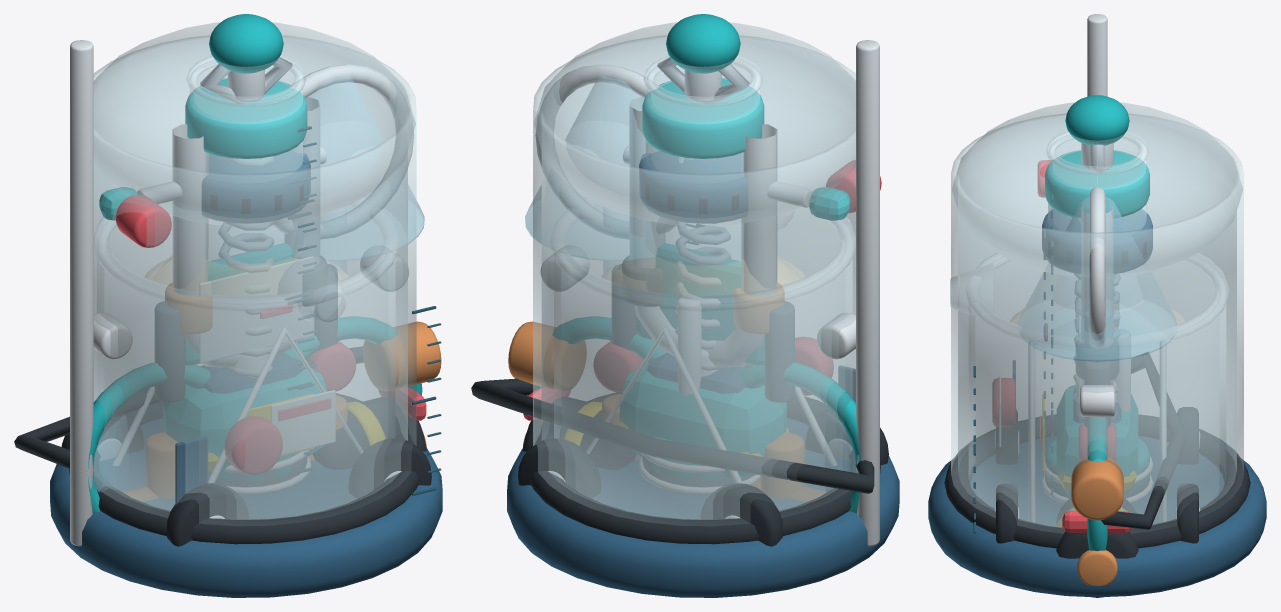
The model's file is science-lab-kit-audit.glb.
The picture shows the model from 3 angles, left to right: view 1: azimuth 30°, elevation 25°; view 2: azimuth 150°, elevation 25°; view 3: azimuth 270°, elevation 25°; orthographic projection. The views are drawn at different scales.
Parts seen in each view (by area): view 1: BELL_JAR_GLASS_WALL, BEAKER_GLASS_WALL, BELL_JAR_DOME, BELL_JAR_BASE, STAND_ROD, FUNNEL_BOWL, BELL_JAR_GASKET, FORK_U_PROFILE, SCALE_TOP_CAP, MIRROR_SURFACE, BOTTLE_CAP, CLAMP_RING (+43 smaller); view 2: BELL_JAR_GLASS_WALL, BEAKER_GLASS_WALL, BELL_JAR_DOME, BELL_JAR_BASE, FUNNEL_BOWL, STAND_ROD, FORK_U_PROFILE, BELL_JAR_GASKET, PUMP_BODY, GOGGLE_STRAP, SCALE_TOP_CAP, BOTTLE_CAP (+37 smaller); view 3: BELL_JAR_GLASS_WALL, BEAKER_GLASS_WALL, BELL_JAR_DOME, BELL_JAR_BASE, FUNNEL_BOWL, BELL_JAR_GASKET, SCALE_TOP_CAP, BOTTLE_CAP, CYLINDER_GLASS_WALL, PUMP_BODY, GOGGLE_STRAP, PUMP_HOSE_PORT (+27 smaller).
Part boxes in pixels (x1,y1,x2,y2): BELL_JAR_GLASS_WALL: (93,35,416,525); BEAKER_GLASS_WALL: (97,215,395,519); BELL_JAR_DOME: (93,22,415,226); BELL_JAR_BASE: (50,418,442,597); STAND_ROD: (70,40,93,546); FUNNEL_BOWL: (292,76,424,260); BELL_JAR_GASKET: (69,393,419,544); FORK_U_PROFILE: (172,97,320,366); SCALE_TOP_CAP: (185,78,307,158); MIRROR_SURFACE: (199,256,313,362); BOTTLE_CAP: (202,151,310,223); CLAMP_RING: (257,64,414,238); BELL_JAR_GLASS_WALL: (533,35,855,525); BEAKER_GLASS_WALL: (554,207,852,519); BELL_JAR_DOME: (534,22,855,226); BELL_JAR_BASE: (507,418,899,597); FUNNEL_BOWL: (525,76,656,260); STAND_ROD: (856,40,879,546); FORK_U_PROFILE: (629,97,777,366); BELL_JAR_GASKET: (529,392,880,544); PUMP_BODY: (620,364,786,477); GOGGLE_STRAP: (471,378,874,493); SCALE_TOP_CAP: (642,78,764,158); BOTTLE_CAP: (639,151,747,223); BELL_JAR_GLASS_WALL: (951,113,1243,533); BEAKER_GLASS_WALL: (969,261,1225,526); BELL_JAR_DOME: (952,102,1242,271); BELL_JAR_BASE: (928,436,1266,597); FUNNEL_BOWL: (1018,197,1176,361); BELL_JAR_GASKET: (944,415,1250,548); SCALE_TOP_CAP: (1045,150,1149,217); BOTTLE_CAP: (1042,209,1152,273); CYLINDER_GLASS_WALL: (1049,135,1145,230); PUMP_BODY: (1057,385,1137,494); GOGGLE_STRAP: (1101,352,1186,529); PUMP_HOSE_PORT: (1071,457,1123,520).
Size of the model in its own units: 1.37 by 1.72 by 1.16.
